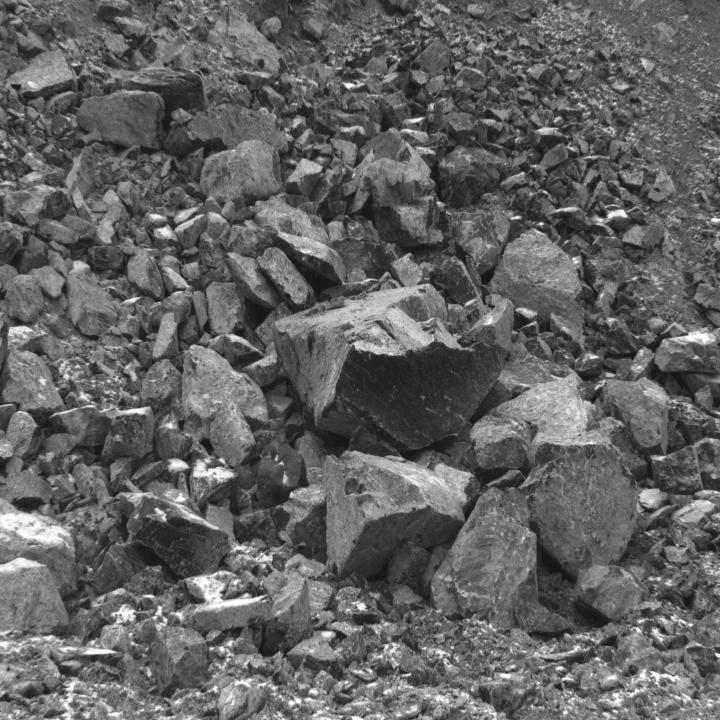stone: (278, 289, 513, 457), (517, 434, 642, 580), (320, 449, 465, 574), (432, 486, 539, 632), (488, 227, 584, 340), (350, 132, 445, 246), (181, 344, 268, 468), (124, 494, 232, 579), (492, 373, 594, 439), (594, 379, 671, 457), (78, 91, 168, 152), (200, 141, 280, 209), (0, 556, 65, 638), (108, 66, 208, 117), (234, 192, 330, 244), (1, 348, 66, 417), (274, 483, 328, 563), (259, 579, 314, 656), (574, 566, 649, 622), (446, 209, 510, 274), (148, 625, 207, 694), (438, 144, 502, 204), (258, 248, 318, 312), (435, 255, 487, 328), (66, 268, 117, 338), (469, 415, 532, 469), (256, 442, 306, 507), (225, 253, 281, 311), (652, 328, 719, 374), (100, 407, 154, 464), (190, 442, 238, 506), (139, 359, 184, 426), (325, 237, 392, 281), (5, 183, 74, 223), (649, 446, 703, 496), (4, 407, 48, 460), (517, 600, 570, 640), (207, 282, 246, 336), (126, 249, 167, 297), (0, 468, 54, 504), (7, 273, 44, 324), (228, 225, 280, 260), (236, 507, 281, 547), (281, 159, 324, 199), (156, 420, 192, 462), (295, 62, 333, 101), (413, 37, 450, 77), (378, 90, 413, 130), (152, 310, 178, 360), (604, 318, 638, 356), (87, 246, 126, 270), (447, 108, 475, 140), (454, 65, 488, 91), (525, 334, 552, 362), (530, 128, 568, 147), (529, 63, 553, 87)
